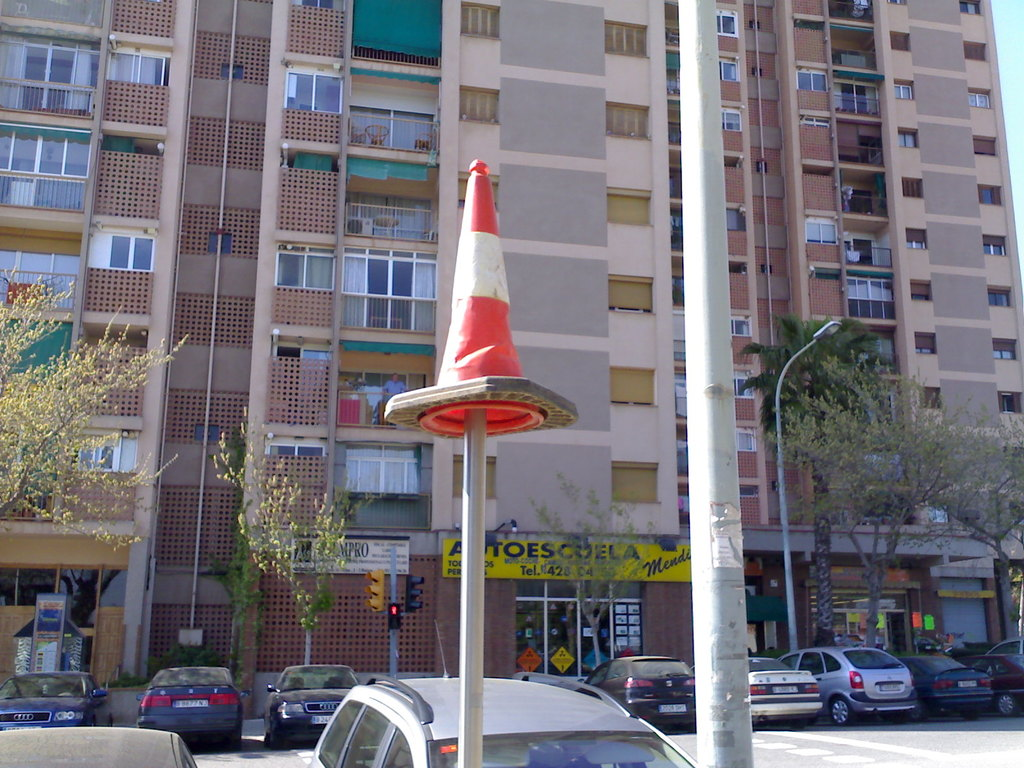Car: (309, 622, 696, 767), (784, 649, 923, 726), (264, 660, 378, 752), (580, 655, 694, 733), (0, 723, 195, 767), (138, 668, 232, 755), (892, 648, 989, 726), (0, 669, 112, 728), (751, 655, 824, 725), (963, 641, 1023, 722)
